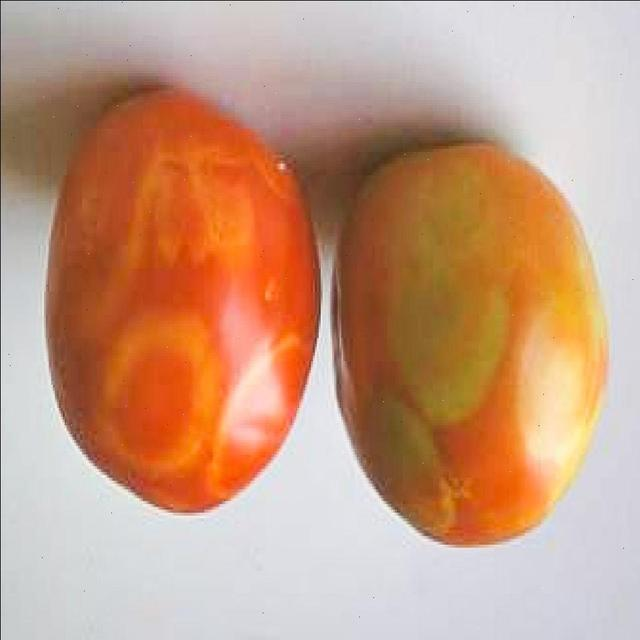Spotted wilt Virus Fruit: (122, 200, 313, 289)
